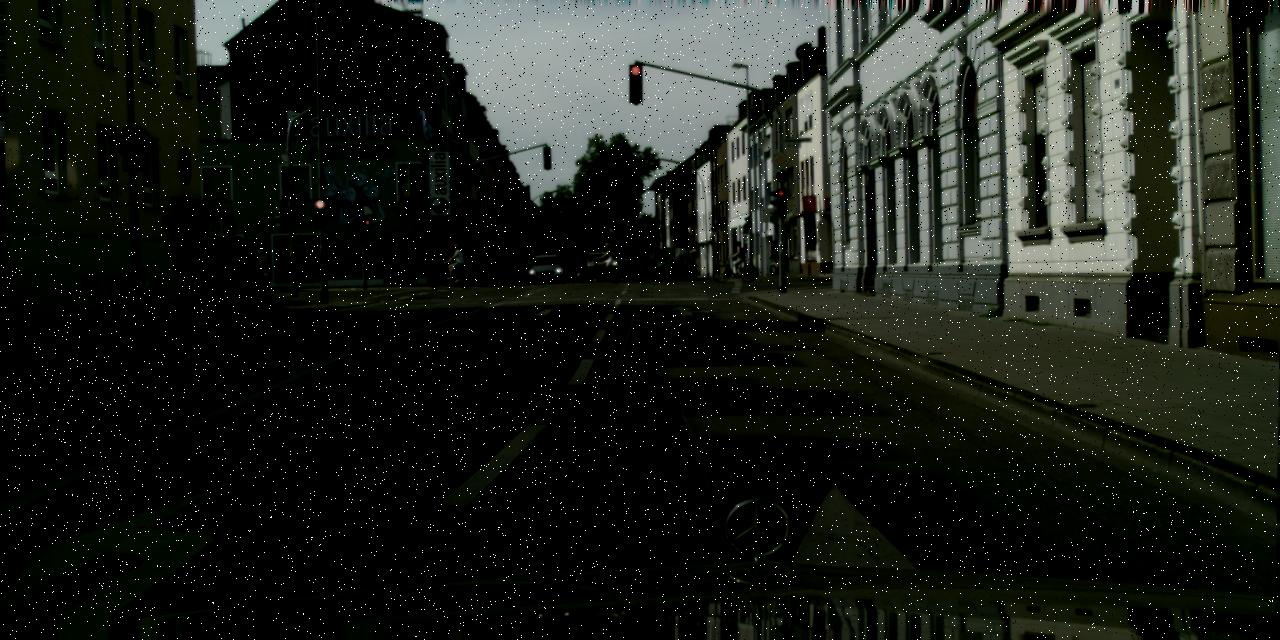ped: (394, 248, 410, 286), (447, 243, 461, 280), (731, 240, 744, 271), (601, 242, 613, 272)
